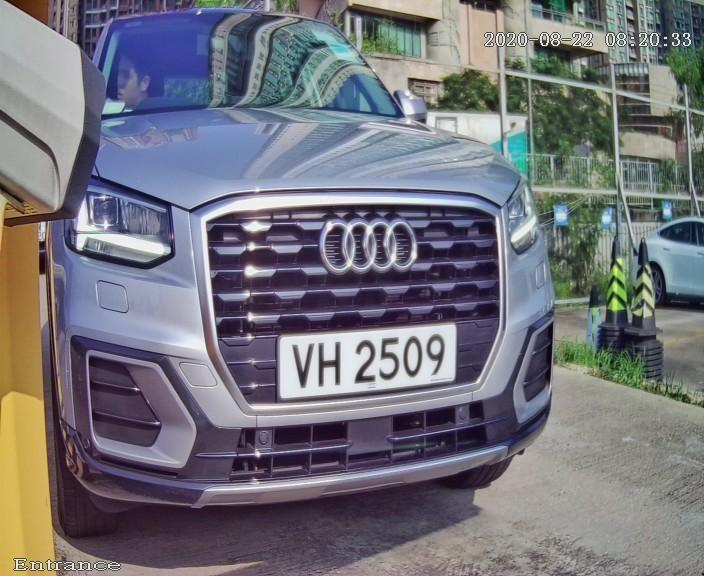Car: (10, 3, 566, 553)
License Plate: (257, 300, 479, 412)
